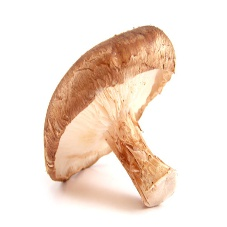mushroom: (42, 24, 180, 213)
